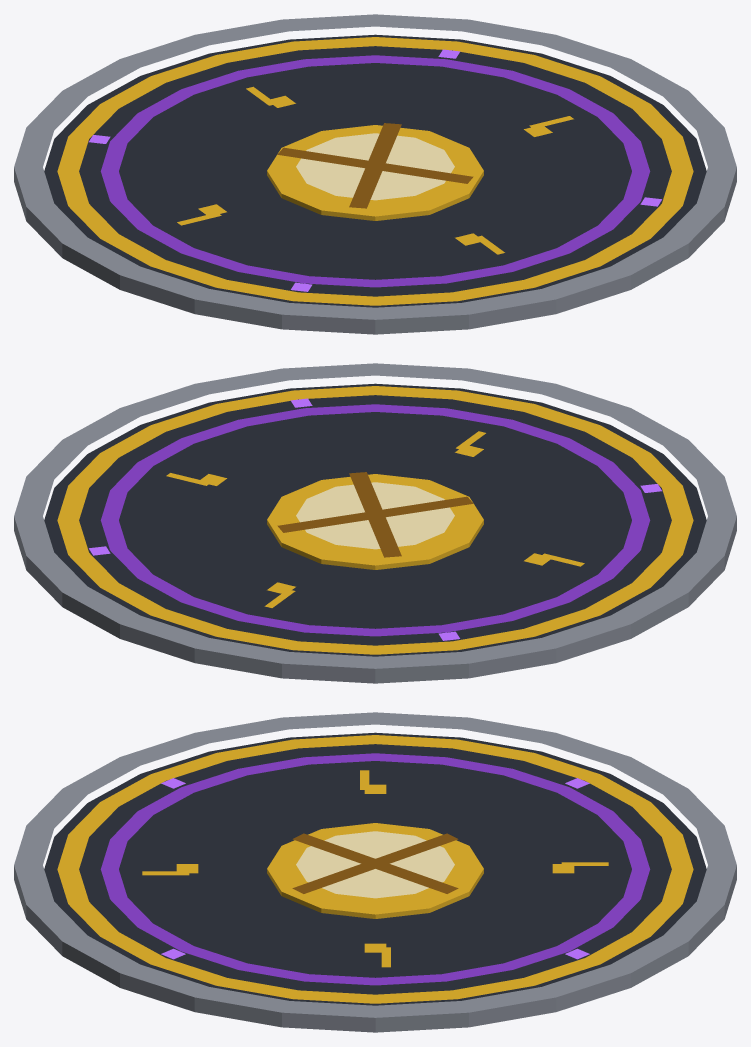
Rendered from drummer_rare_area.glb.
The picture shows the model from 3 angles, top to bottom: view 1: azimuth 30°, elevation 25°; view 2: azimuth 150°, elevation 25°; view 3: azimuth 270°, elevation 25°; orthographic projection.
Parts seen in each view (by area): view 1: drummer_rare_area; view 2: drummer_rare_area; view 3: drummer_rare_area.
Boxes of the visible parts, x1,y1,x2,y2 form: drummer_rare_area: (14,14,736,334); drummer_rare_area: (14,363,736,683); drummer_rare_area: (14,712,736,1032).
Bounding box in the file's own units: 2 × 0.049 × 2.
2 materials, 2 textured.
